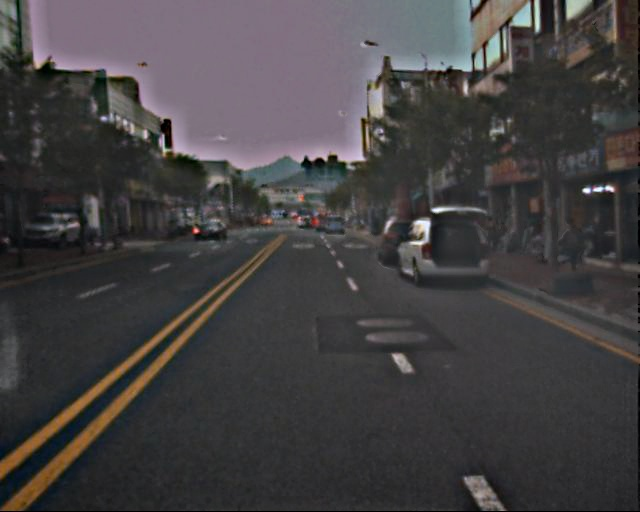person: (556, 220, 585, 286), (482, 216, 500, 261)
